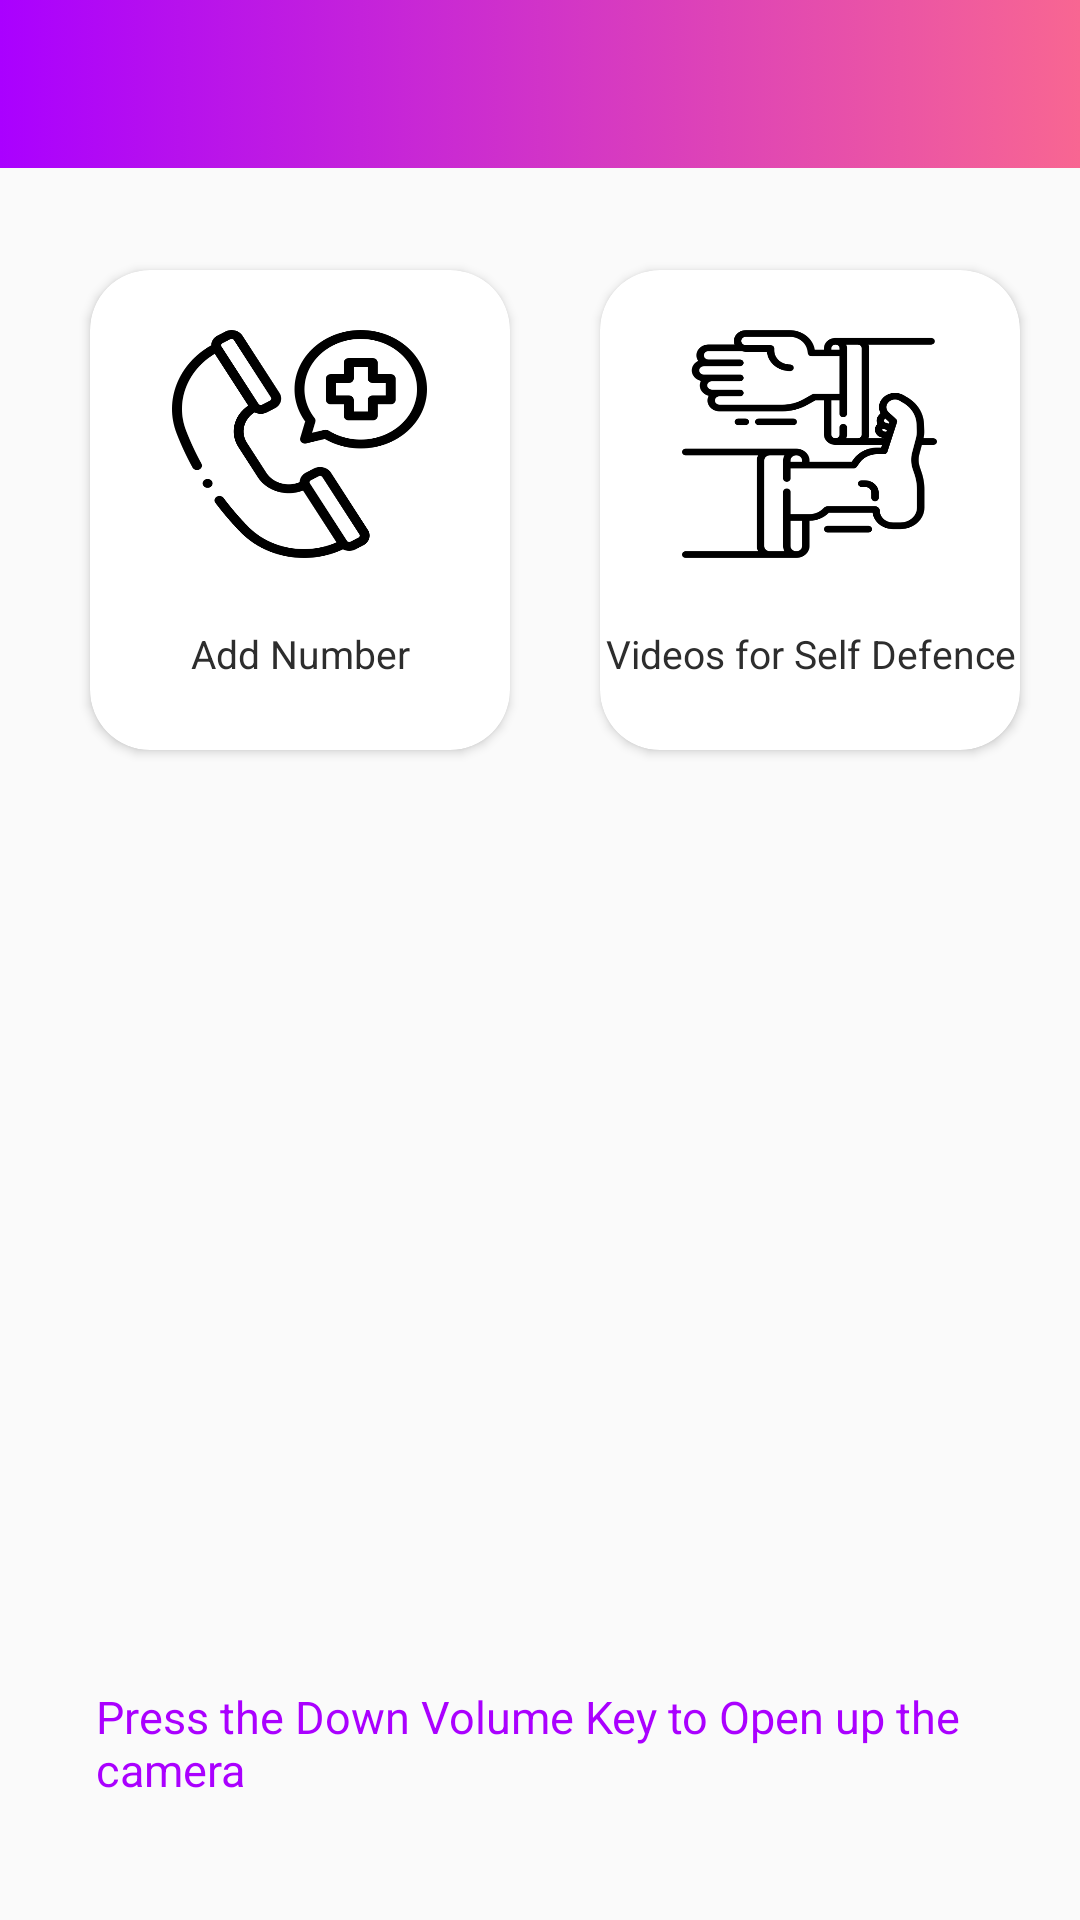

Named icons in this screenshot (1080px×1920px) and their centers, (x=x, y=y):
emergancy call: (x=299, y=444)
